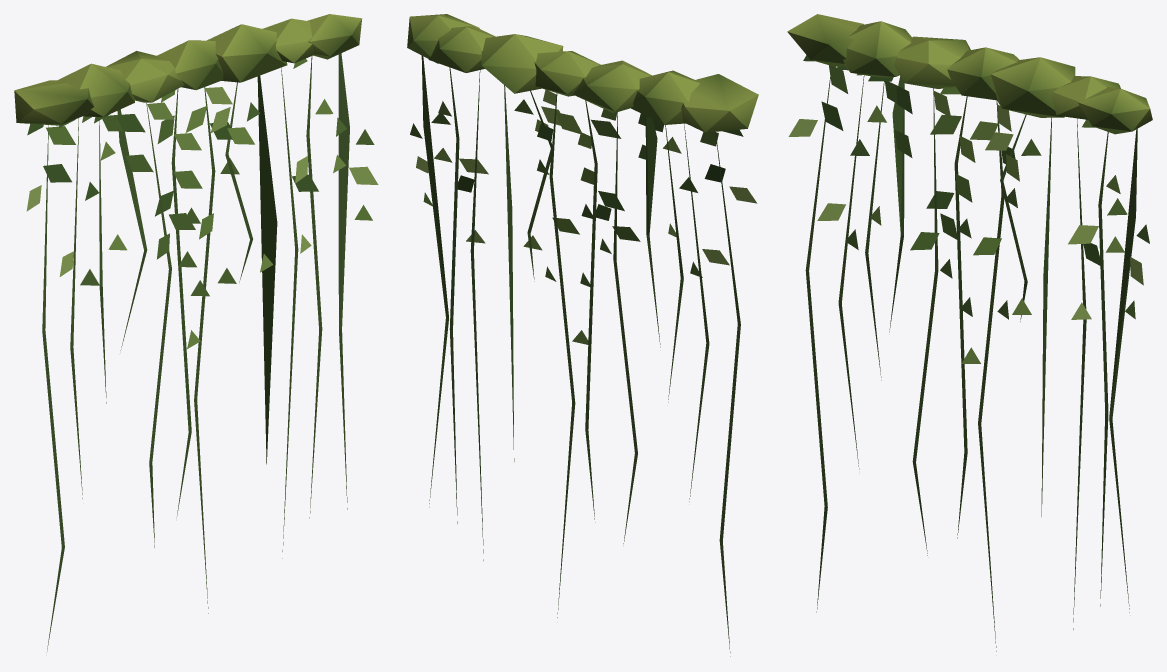
The model's file is wf_vines-lod1.glb.
3 renders of one model, left to right at view 1: azimuth 30°, elevation 25°; view 2: azimuth 150°, elevation 25°; view 3: azimuth 330°, elevation 25°, orthographic. The views are drawn at different scales.
Visible parts, largest first — view 1: wf_vines; view 2: wf_vines; view 3: wf_vines.
Part boxes in pixels (x1,y1,x2,y2): wf_vines: (14, 14, 378, 651); wf_vines: (407, 14, 758, 656); wf_vines: (787, 14, 1152, 651).
Size of the model in its own units: 3.27 by 5.23 by 0.7187.
